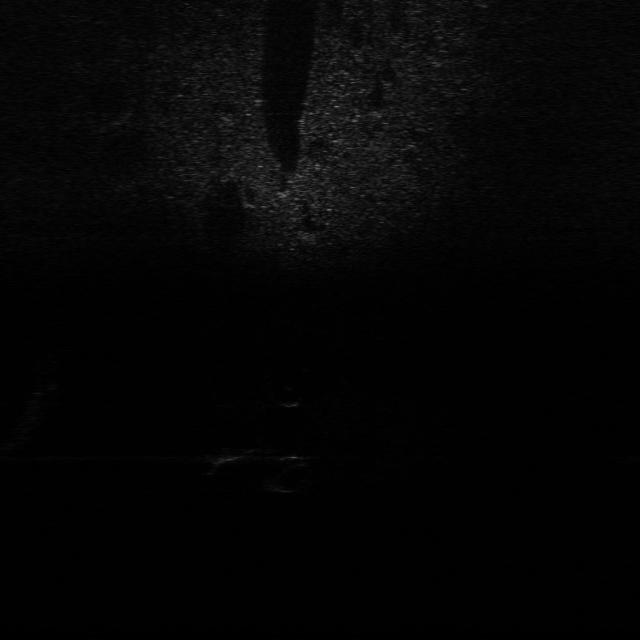ball: (273, 386, 308, 411)
square cage: (200, 441, 254, 466)
tyre: (258, 454, 323, 493)
